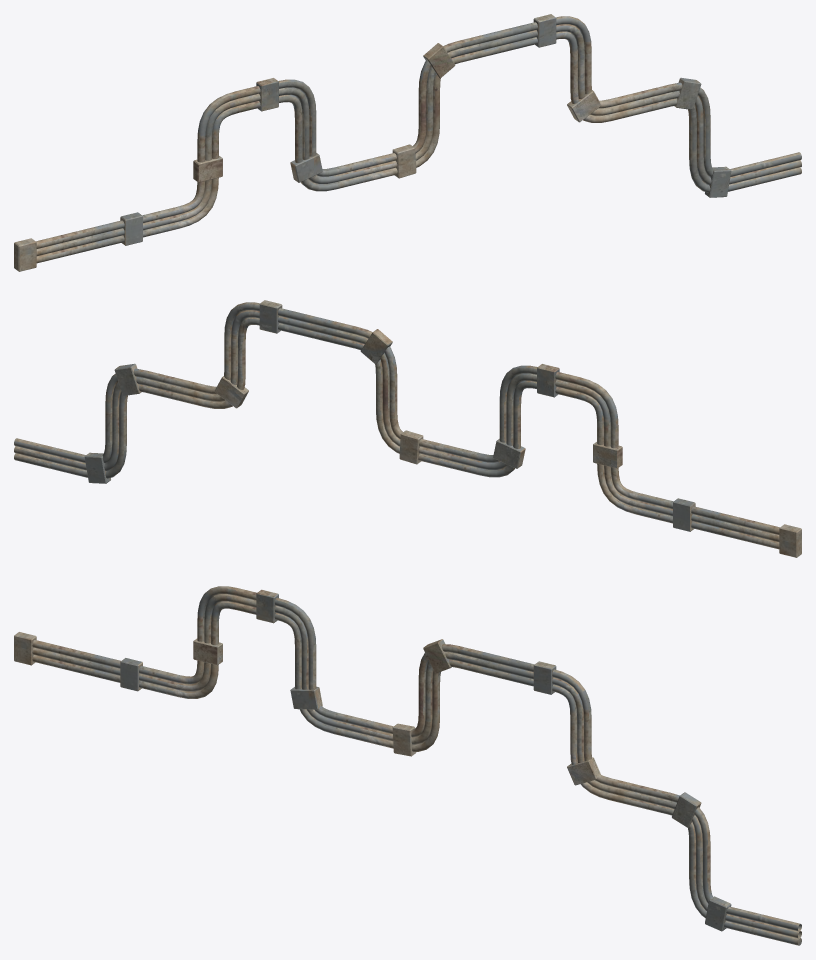
File: wire-cluster-01.FBX
3 views of the same model, one above another, from view 1: azimuth 30°, elevation 25°; view 2: azimuth 150°, elevation 25°; view 3: azimuth 330°, elevation 25° (orthographic).
Visible parts, largest first — view 1: wirez-01; view 2: wirez-01; view 3: wirez-01.
Part boxes in pixels (x1,y1,x2,y2): wirez-01: [14, 14, 801, 271]; wirez-01: [14, 300, 801, 557]; wirez-01: [14, 586, 801, 945].
Bounding box in the file's own units: 130 × 1.52 × 35.56.
